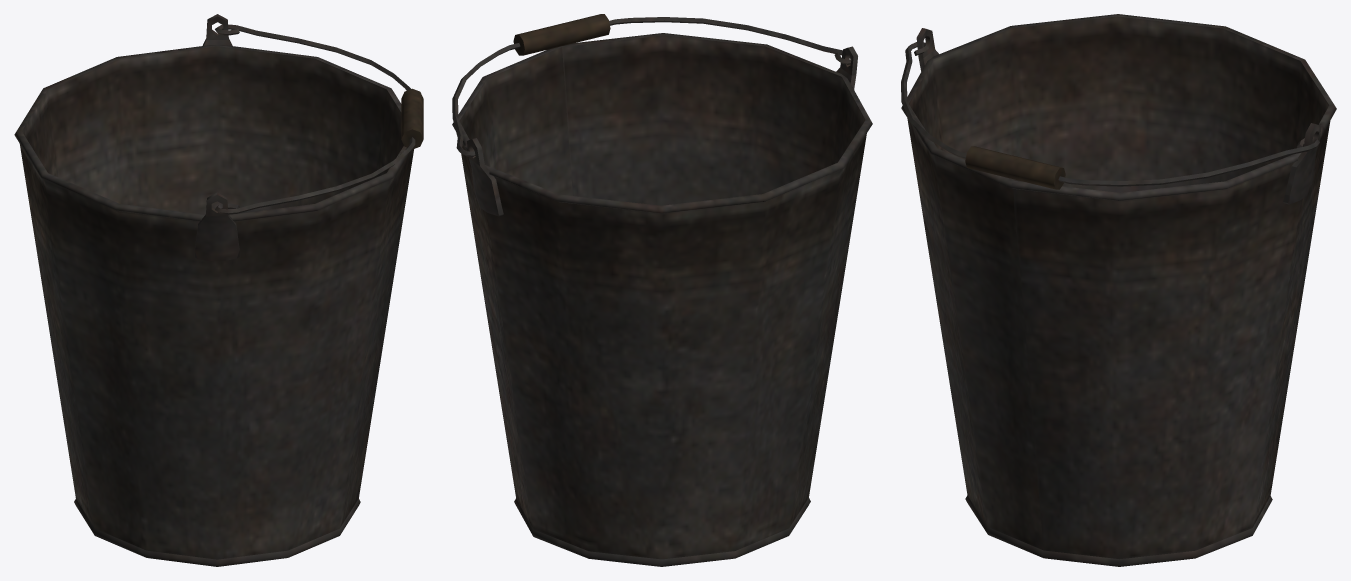
Rendered from bucket_mx_2.obj.
3 views of the same model, side by side, from view 1: azimuth 30°, elevation 25°; view 2: azimuth 150°, elevation 25°; view 3: azimuth 270°, elevation 25° (orthographic). The views are drawn at different scales.
Parts seen in each view (by area): view 1: bucket_mx_2; view 2: bucket_mx_2; view 3: bucket_mx_2.
Part boxes in pixels (box(x1,y1,x2,y2)): bucket_mx_2: box(14, 14, 423, 566); bucket_mx_2: box(452, 14, 872, 566); bucket_mx_2: box(901, 14, 1336, 566).
Size of the model in its own units: 0.4314 by 0.4651 by 0.43.
